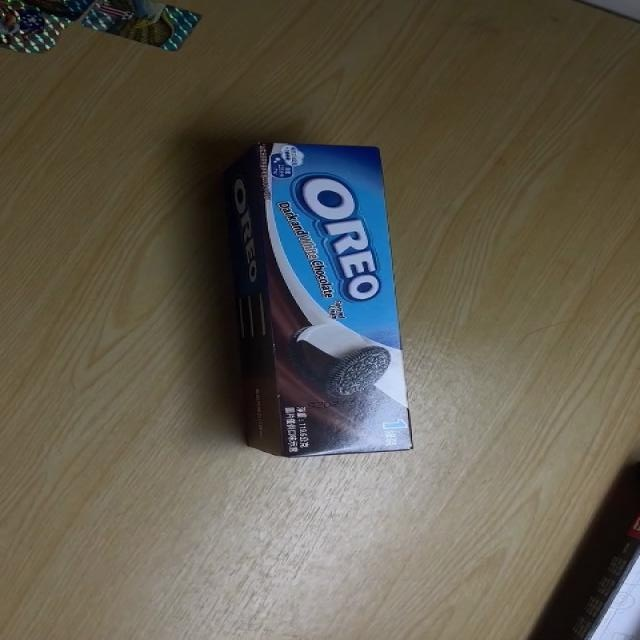Oreo: (227, 142, 410, 464)
